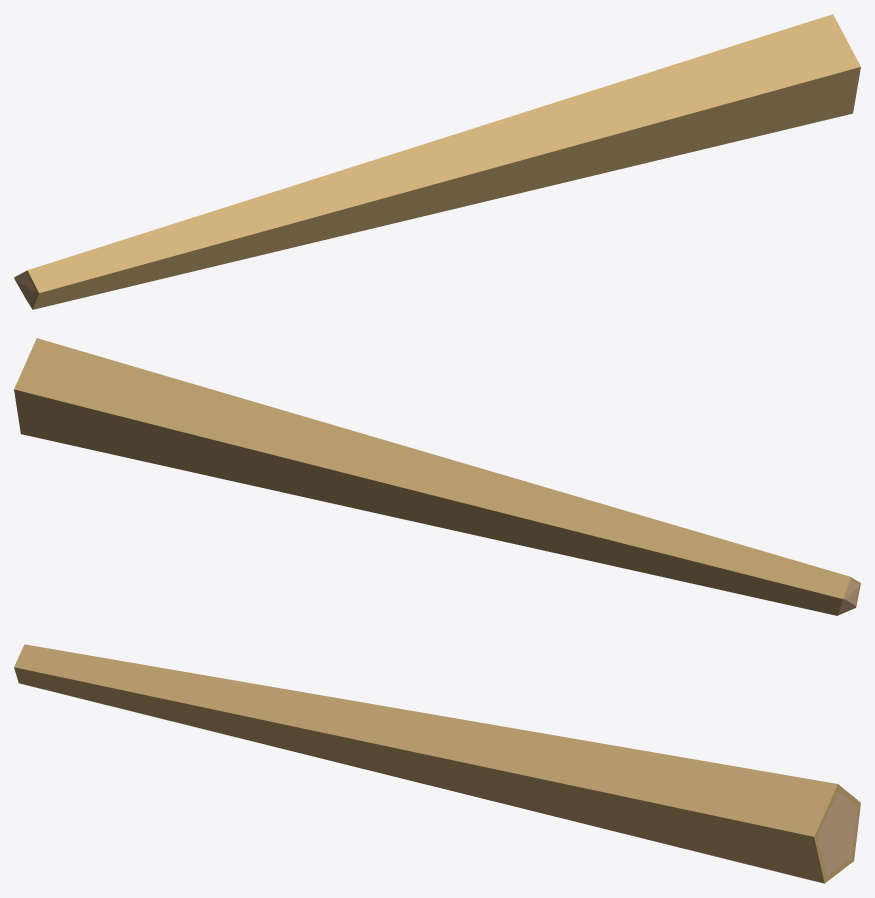
Rendered from Simple_Log_03_LOD.fbx.
3 views of the same model, one above another, from view 1: azimuth 30°, elevation 25°; view 2: azimuth 150°, elevation 25°; view 3: azimuth 330°, elevation 25° (orthographic).
Parts seen in each view (by area): view 1: Simple_Log_03_LOD0; view 2: Simple_Log_03_LOD0; view 3: Simple_Log_03_LOD0.
Boxes of the visible parts, left/top/right/bottom form: Simple_Log_03_LOD0: left=14, top=14, right=860, bottom=309; Simple_Log_03_LOD0: left=14, top=338, right=860, bottom=615; Simple_Log_03_LOD0: left=14, top=644, right=860, bottom=883.
Size of what is drawn, in the model's own units: 277 by 28.36 by 28.56.
